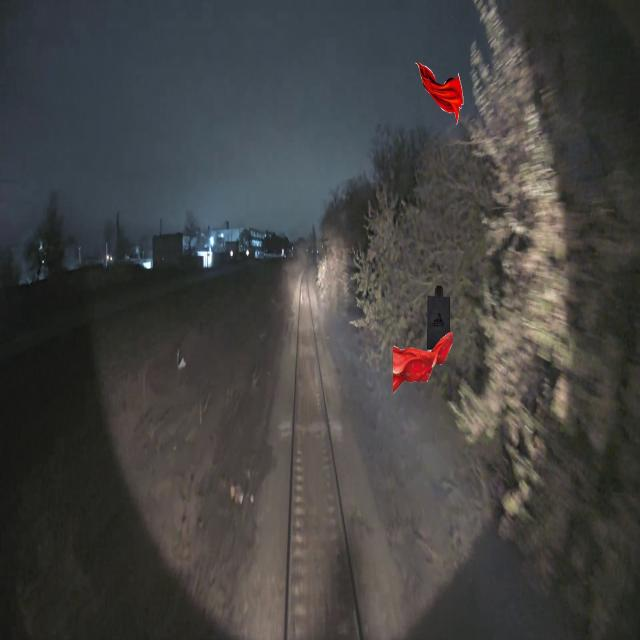floating object: (393, 330, 453, 394), (414, 61, 464, 125)
plastic bag: (426, 285, 451, 349)
